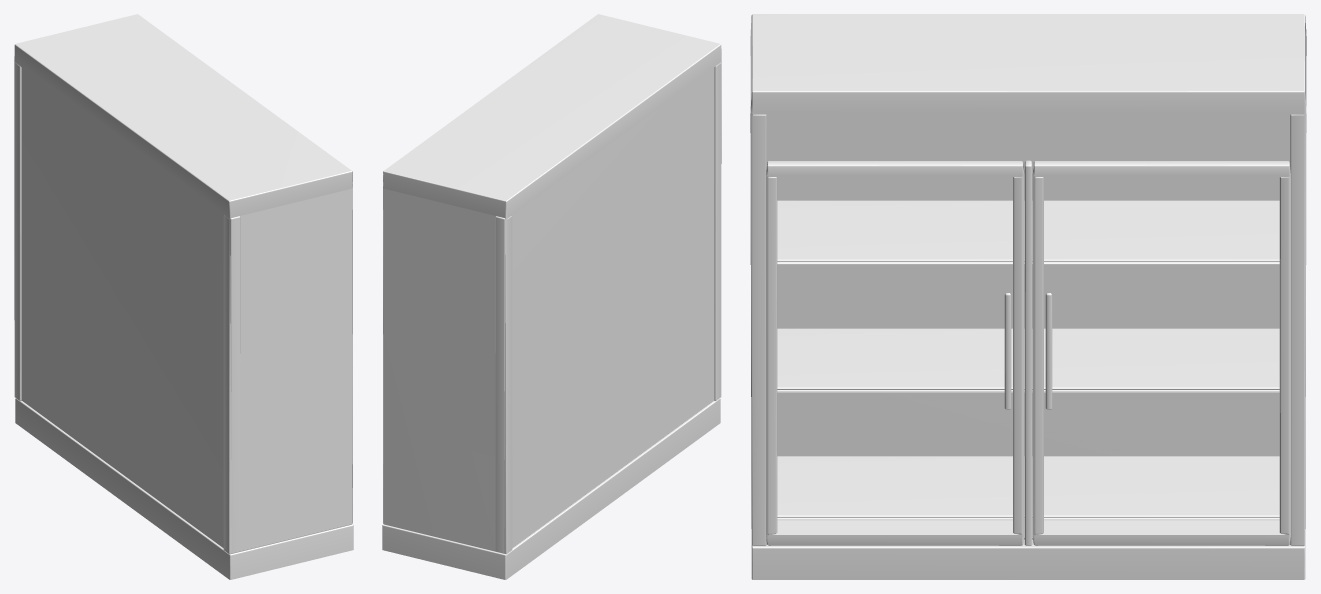
The model's file is fridge.glb.
3 views of the same model, side by side, from view 1: azimuth 30°, elevation 25°; view 2: azimuth 150°, elevation 25°; view 3: azimuth 270°, elevation 25° (orthographic). The views are drawn at different scales.
Parts seen in each view (by area): view 1: Fridge; view 2: Fridge; view 3: Fridge.
Boxes of the visible parts, x1,y1,x2,y2 form: Fridge: [14, 14, 353, 579]; Fridge: [382, 14, 721, 579]; Fridge: [750, 14, 1306, 579].
Size of the model in its own units: 0.77 by 2.1 by 2.17.
Materials: 1 (1 with a texture image).
